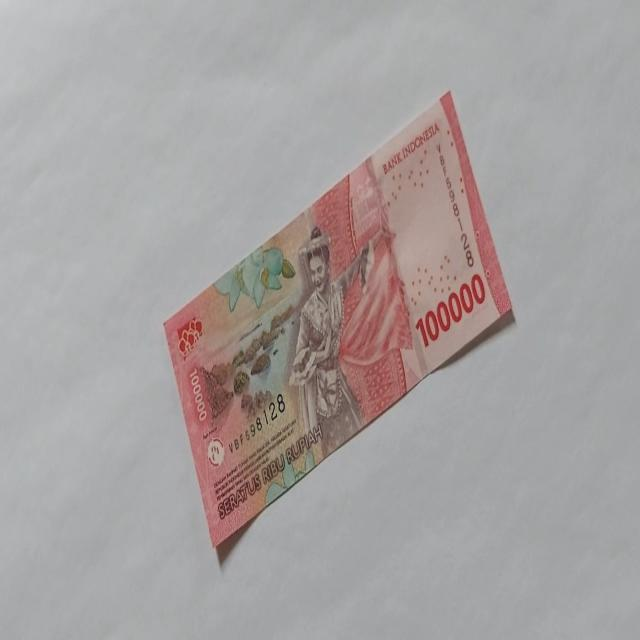seratus ribu rupiah: (162, 88, 514, 550), (287, 224, 375, 448)
